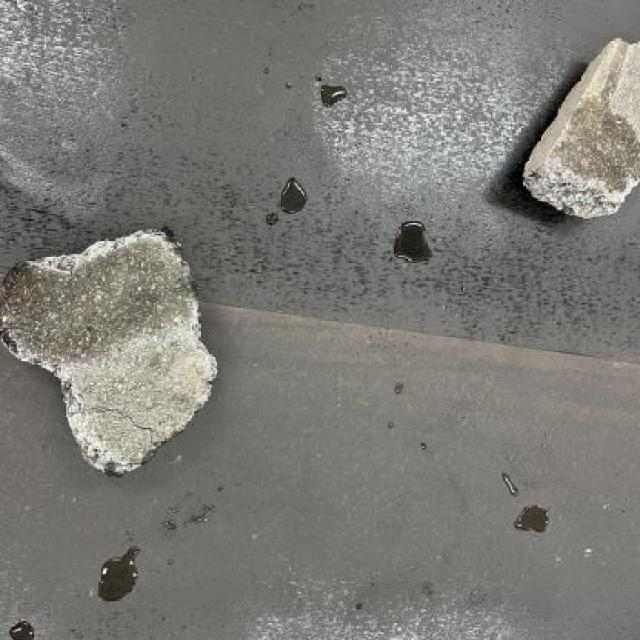Road Debris: (4, 244, 200, 358), (567, 103, 640, 191), (602, 36, 636, 109)
